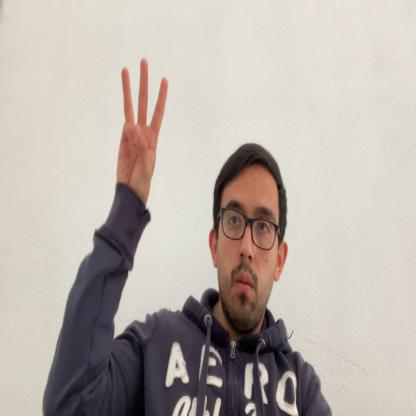W: (117, 60, 168, 195)
